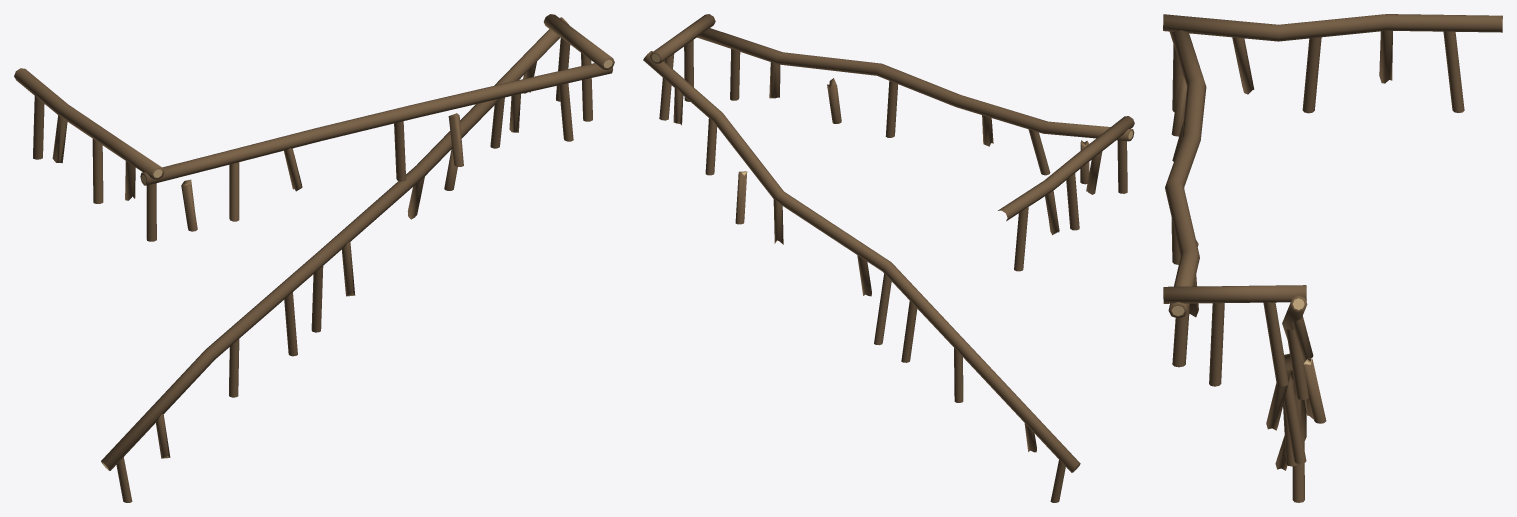
File: rpgpp_av_stairs_interior_01a_4m_handrail_01.gltf
The picture shows the model from 3 angles, left to right: view 1: azimuth 30°, elevation 25°; view 2: azimuth 150°, elevation 25°; view 3: azimuth 270°, elevation 25°; orthographic projection. The views are drawn at different scales.
Parts seen in each view (by area): view 1: rpgpp_av_stairs_interior_01a_4m_handrail_01; view 2: rpgpp_av_stairs_interior_01a_4m_handrail_01; view 3: rpgpp_av_stairs_interior_01a_4m_handrail_01.
Boxes of the visible parts, box(x1,y1,x2,y2) form: rpgpp_av_stairs_interior_01a_4m_handrail_01: box(14, 14, 614, 502); rpgpp_av_stairs_interior_01a_4m_handrail_01: box(643, 14, 1134, 502); rpgpp_av_stairs_interior_01a_4m_handrail_01: box(1163, 14, 1502, 502).
Size of the model in its own units: 0.0644 by 0.0488 by 0.0318.
1 material, 1 textured.
